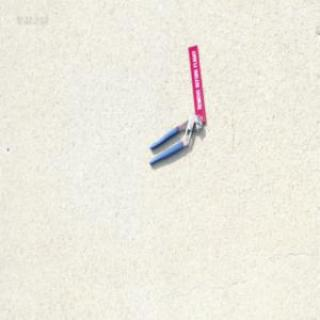LuggageTagtrack_idkeyframe: (187, 44, 206, 123)
Pliertrack_idkeyframe: (148, 113, 201, 166)
